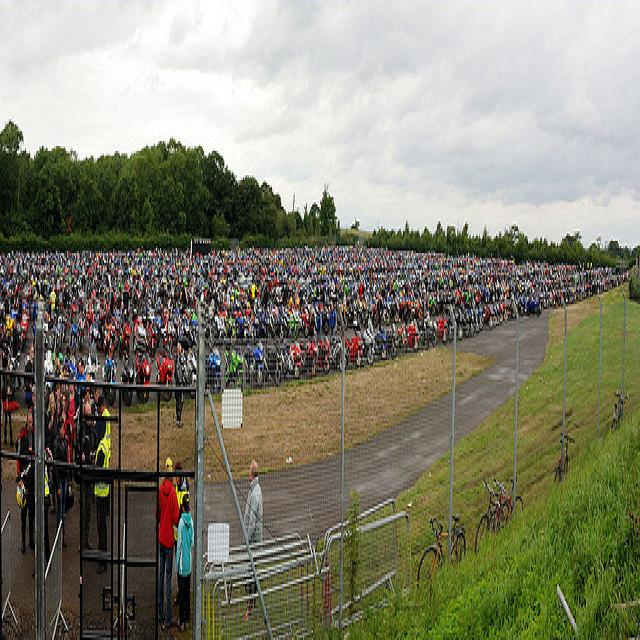motor: (0, 241, 629, 355), (345, 318, 365, 371), (244, 341, 264, 390), (224, 349, 244, 390), (322, 335, 343, 374), (136, 353, 152, 404), (206, 344, 222, 395), (282, 340, 302, 379), (367, 321, 387, 359), (155, 347, 175, 385), (301, 337, 319, 376), (406, 314, 420, 353), (330, 344, 348, 374), (362, 328, 376, 364)
